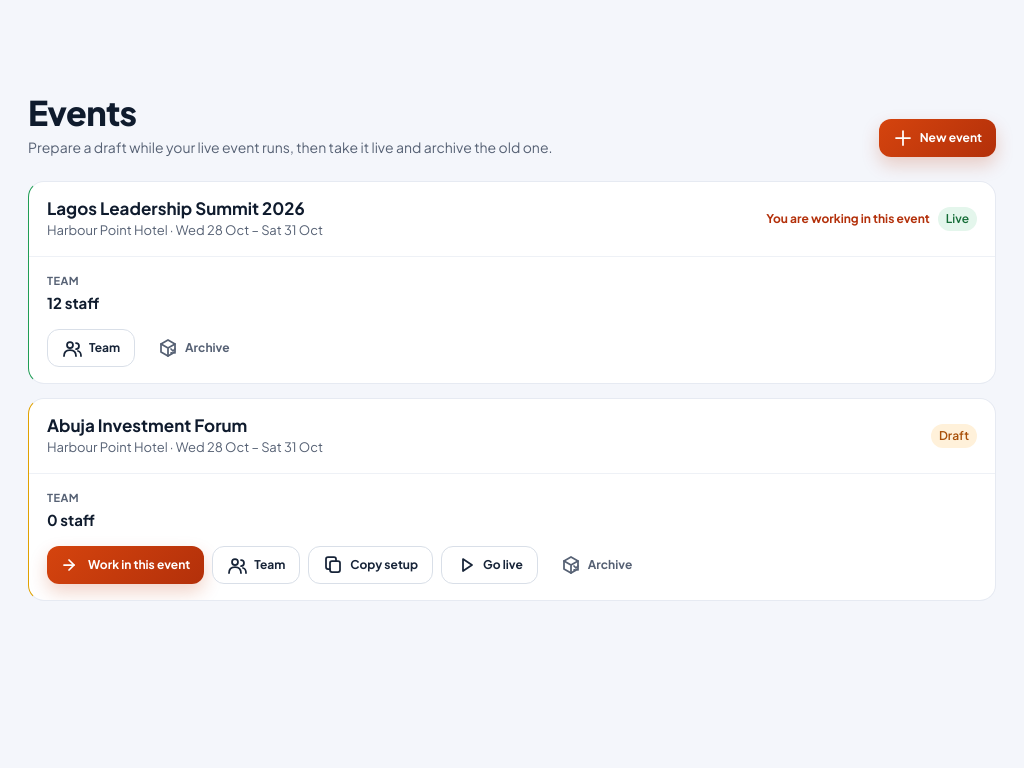
Scenario: EventsScreen › copies chosen parts of an earlier event into a draft
The image size is (1024, 768).
Step 1. Click the button "Copy setup" → click(371, 565), box x1=308 y1=546 x2=433 y2=584
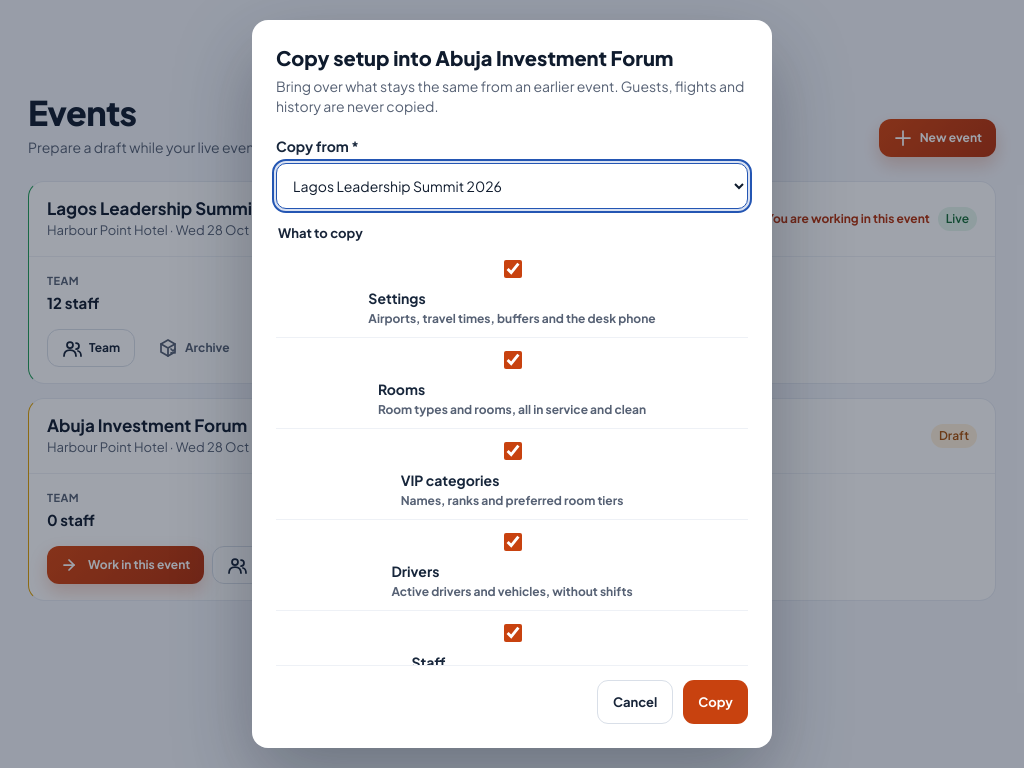
Step 2. Click the checkbox labelled "Settings Airports, travel times, buffers and the desk phone" → click(512, 269), box x1=504 y1=260 x2=522 y2=278
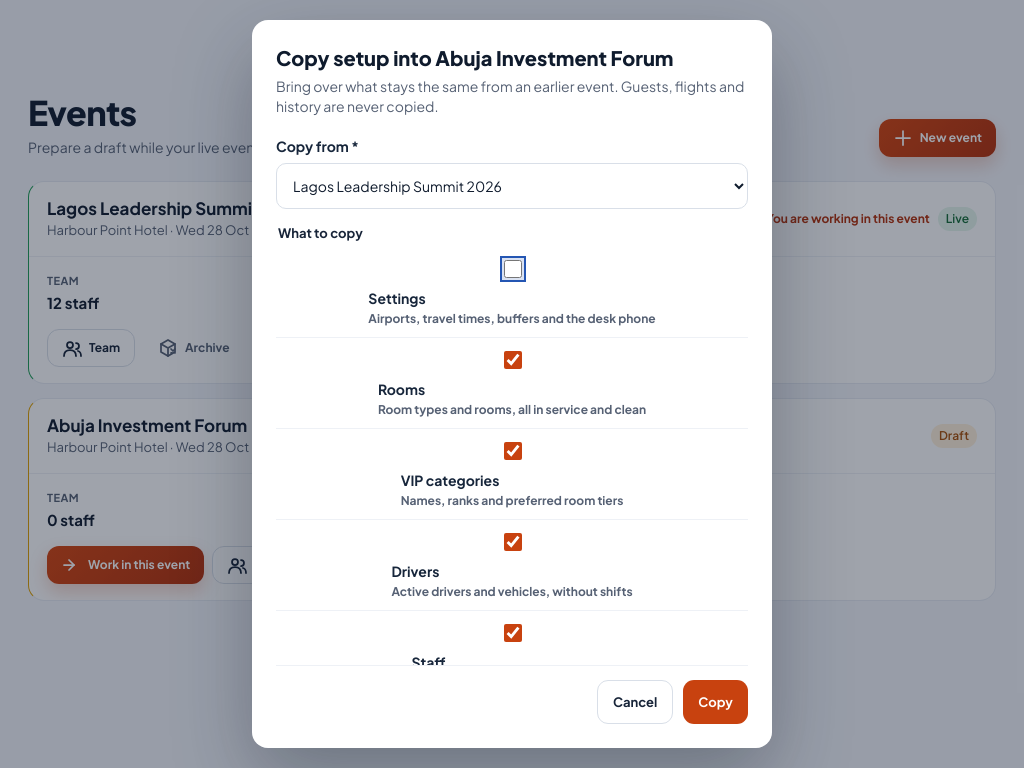
Step 3. Click the checkbox labelled "VIP categories Names, ranks and preferred room tiers" → click(512, 451), box x1=504 y1=442 x2=522 y2=460
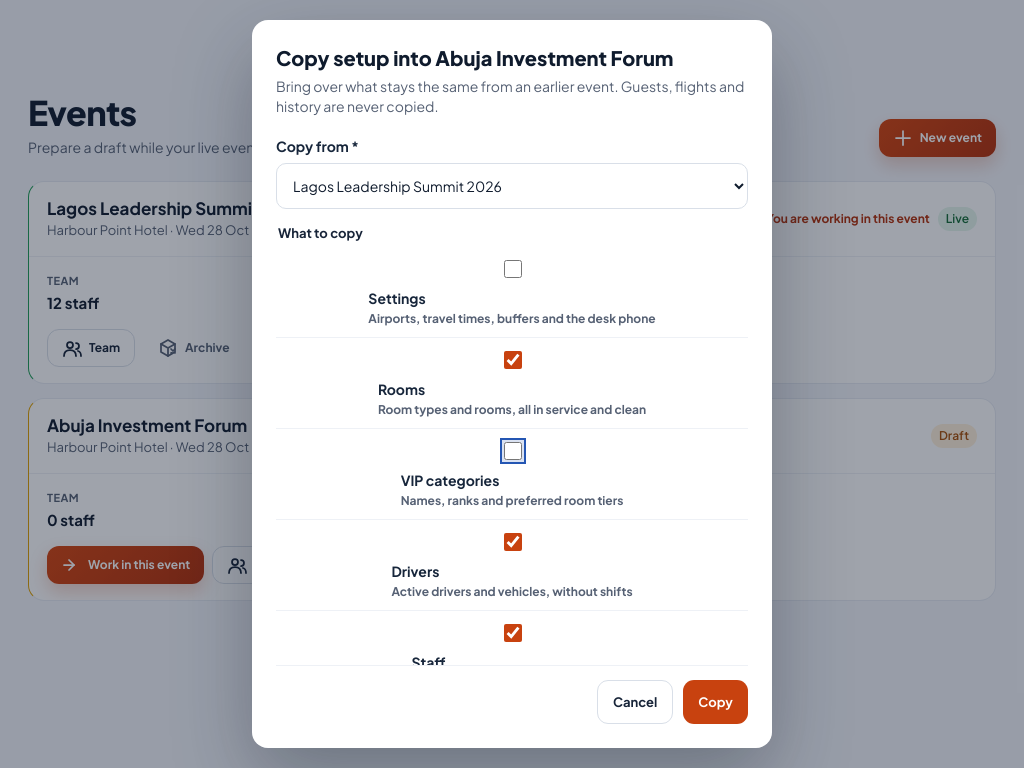
Step 4. Click the checkbox labelled "Drivers Active drivers and vehicles, without shifts" → click(512, 542), box x1=504 y1=533 x2=522 y2=551
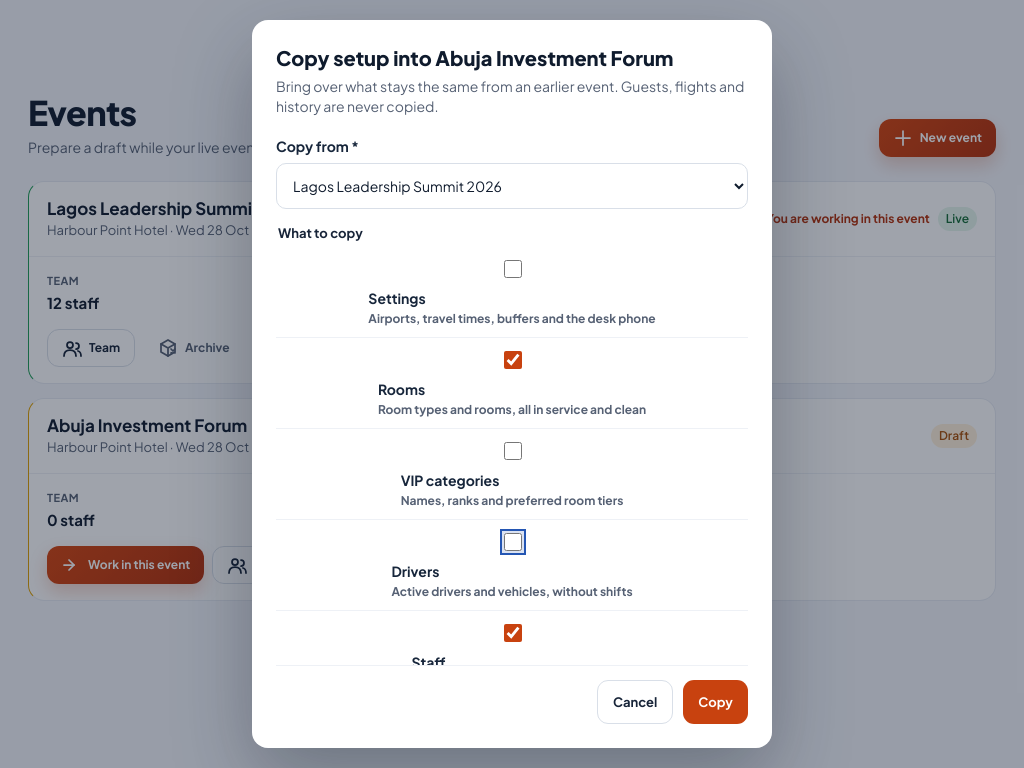
Step 5. Click the checkbox labelled "Staff The same team works on this event" → click(512, 633), box x1=504 y1=624 x2=522 y2=642
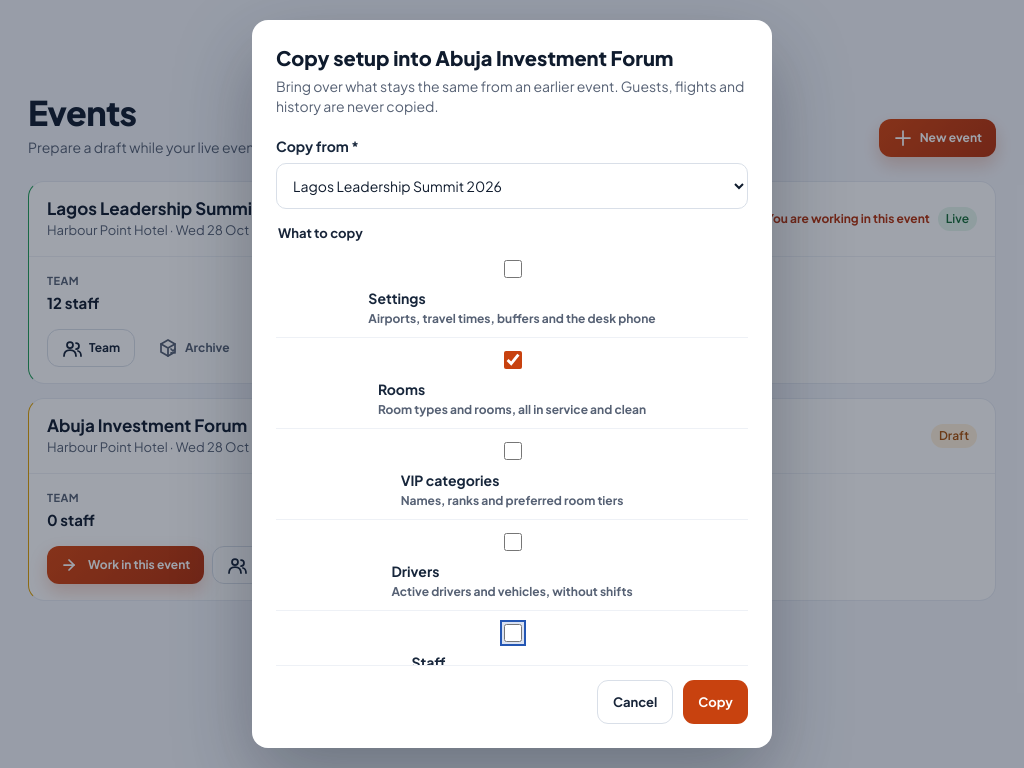
Step 6. Click the button "Copy" → click(716, 702), box x1=683 y1=680 x2=748 y2=724
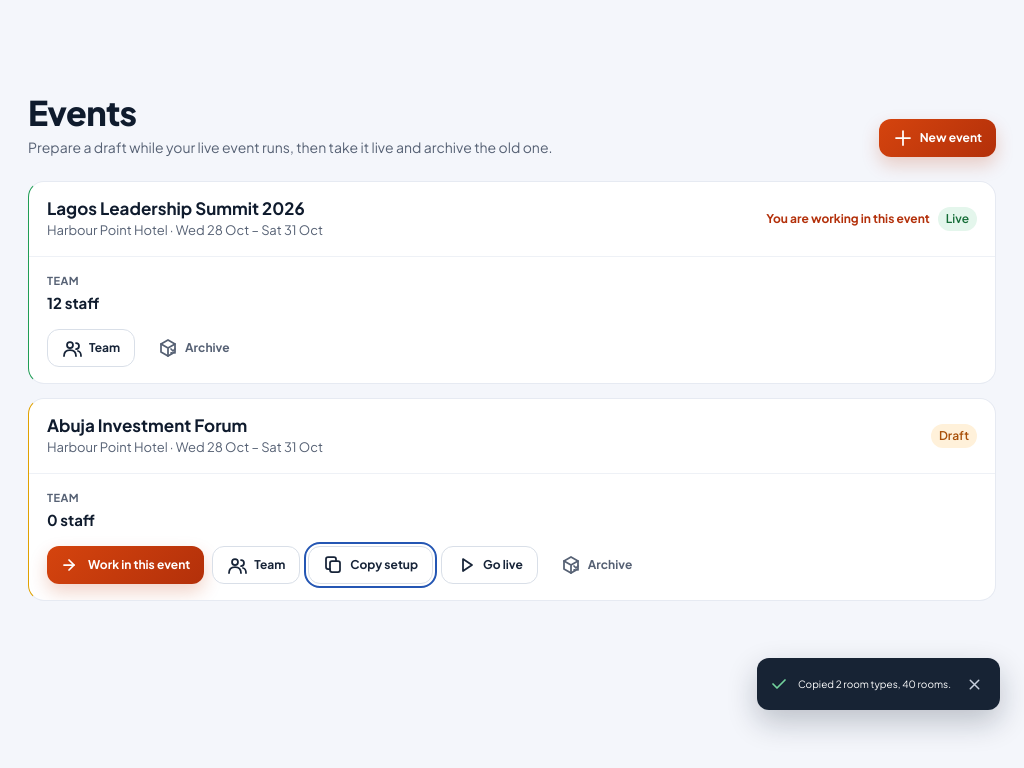
Result: the text "Copied 2 room types, 40 rooms." is shown at x1=798 y1=674 x2=951 y2=694
